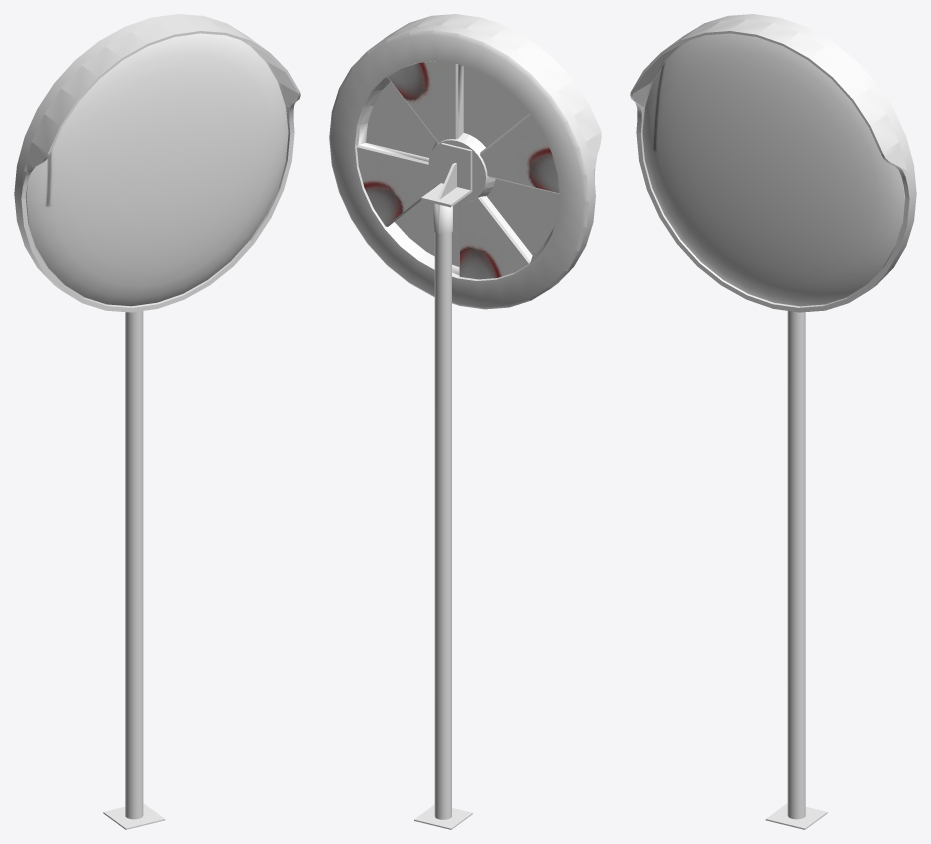
3 views of the same model, side by side, from view 1: azimuth 30°, elevation 25°; view 2: azimuth 150°, elevation 25°; view 3: azimuth 330°, elevation 25° (orthographic). The views are drawn at different scales.
Visible parts, largest first — view 1: MainBuilding; view 2: MainBuilding; view 3: MainBuilding.
Part boxes in pixels (left/top/right/bottom): MainBuilding: left=14, top=14, right=300, bottom=829; MainBuilding: left=329, top=14, right=601, bottom=829; MainBuilding: left=630, top=14, right=916, bottom=829.
Size of the model in its own units: 1.04 by 2.96 by 0.3383.
Materials: 1 (1 with a texture image).
